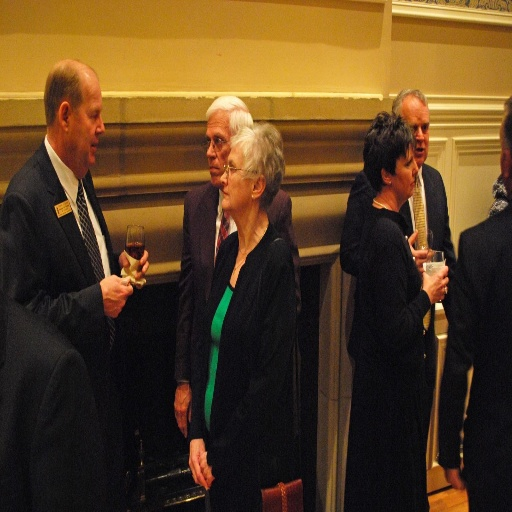hand: (98, 271, 134, 321), (173, 380, 194, 442), (407, 226, 435, 272), (117, 245, 150, 282), (187, 439, 206, 492), (423, 269, 450, 301), (196, 449, 215, 489), (442, 466, 464, 491)
